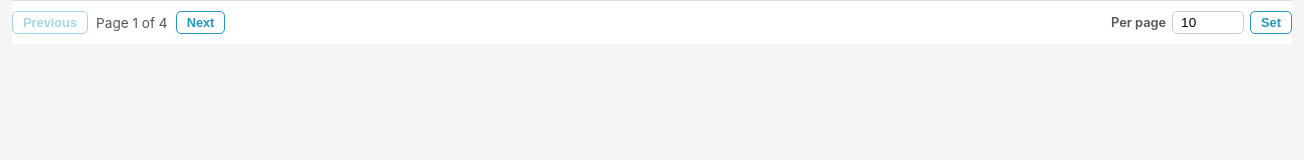
Test: Pager › shows an error and does not submit the page size 2.5
Replace the text in the number field labelled "Per page" with "2.5" at (1208, 22), box [1172,11,1244,34]
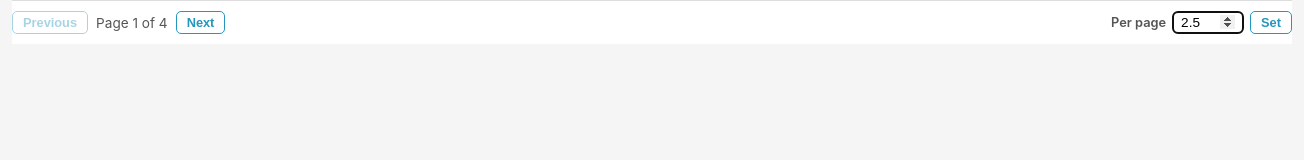
Click the button "Set" at (1271, 22), box [1250,11,1292,34]
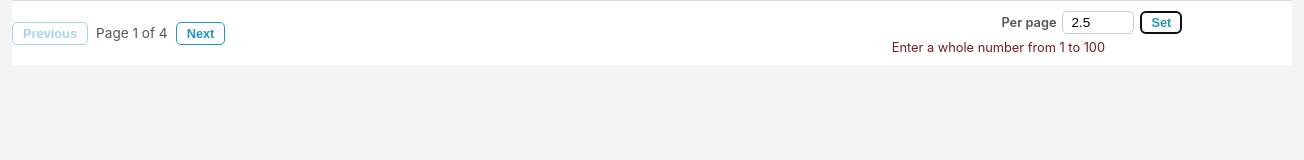
Expected: the text "Enter a whole number from 1 to 100" is shown, [892,40,1105,55]
